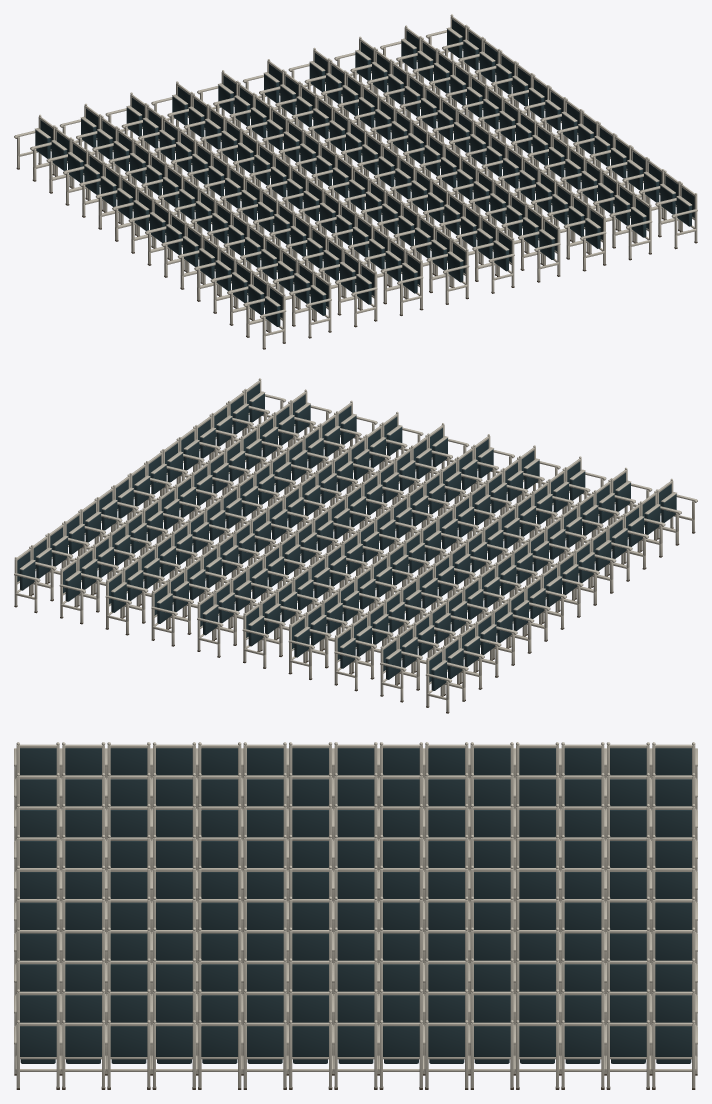
The model's file is CR3_audience_chairs.fbx.
The picture shows the model from 3 angles, top to bottom: view 1: azimuth 30°, elevation 25°; view 2: azimuth 150°, elevation 25°; view 3: azimuth 270°, elevation 25°; orthographic projection. The views are drawn at different scales.
Visible parts, largest first — view 1: AudienceChairs; view 2: AudienceChairs; view 3: AudienceChairs.
Part boxes in pixels (<box>): AudienceChairs: <box>14,14,697,349</box>; AudienceChairs: <box>14,378,697,713</box>; AudienceChairs: <box>14,742,697,1089</box>.
Size of the model in its own units: 8.8 by 0.957 by 8.61.
